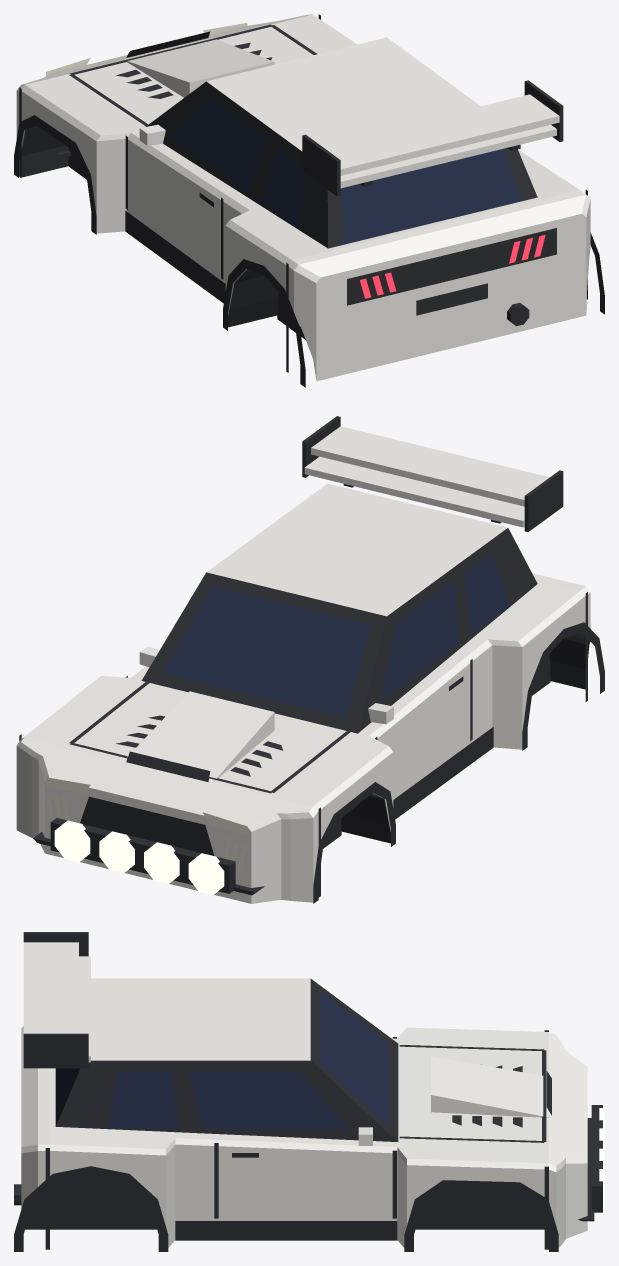
File: Griffe.fbx
3 views of the same model, one above another, from view 1: azimuth 30°, elevation 25°; view 2: azimuth 150°, elevation 25°; view 3: azimuth 270°, elevation 25° (orthographic). The views are drawn at different scales.
Parts seen in each view (by area): view 1: BumperRear, Roof, Opt_Wing_Rally_WingBlade, RearWindow, Hood, Door_FL, Pillars, Cowl, Fender_FL, TailGarnish, Window_FL, Opt_Hood_Scoop_HoodScoop (+14 smaller); view 2: Roof, BumperFront, Windshield, Hood, Pillars, Opt_Wing_Rally_WingBlade, Fender_RL, Opt_Hood_Scoop_HoodScoop, Door_FL, Window_FL, Opt_Bumper_Lamps_RallyLamp, Cowl (+12 smaller); view 3: Roof, Door_FR, Hood, Pillars, WheelWell, Fender_RR, Window_FR, BumperFront, Opt_Wing_Rally_WingBlade, Opt_Hood_Scoop_HoodScoop, Windshield, Fender_FR (+13 smaller).
Boxes of the visible parts, <box> form: BumperRear: <box>290,191,590,381</box>; Roof: <box>206,37,480,151</box>; Opt_Wing_Rally_WingBlade: <box>321,94,559,188</box>; RearWindow: <box>341,149,522,244</box>; Hood: <box>25,14,357,135</box>; Door_FL: <box>126,133,228,282</box>; Pillars: <box>146,81,537,248</box>; Cowl: <box>132,131,579,259</box>; Fender_FL: <box>21,85,130,233</box>; TailGarnish: <box>347,228,556,305</box>; Window_FL: <box>170,98,268,192</box>; Opt_Hood_Scoop_HoodScoop: <box>123,38,274,97</box>; Roof: <box>206,483,507,616</box>; BumperFront: <box>16,736,317,903</box>; Windshield: <box>163,586,370,718</box>; Hood: <box>25,676,388,806</box>; Pillars: <box>141,528,537,733</box>; Opt_Wing_Rally_WingBlade: <box>304,426,549,527</box>; Fender_RL: <box>467,589,585,749</box>; Opt_Hood_Scoop_HoodScoop: <box>123,691,274,783</box>; Door_FL: <box>369,656,471,799</box>; Window_FL: <box>380,580,459,701</box>; Opt_Bumper_Lamps_RallyLamp: <box>54,820,224,894</box>; Cowl: <box>131,580,579,735</box>; Roof: <box>91,978,310,1060</box>; Door_FR: <box>214,1139,397,1220</box>; Hood: <box>397,1027,548,1163</box>; Pillars: <box>55,979,398,1141</box>; WheelWell: <box>25,1175,544,1229</box>; Fender_RR: <box>45,1138,213,1247</box>; Window_FR: <box>189,1072,350,1128</box>; BumperFront: <box>549,1032,587,1247</box>; Opt_Wing_Rally_WingBlade: <box>23,942,90,1062</box>; Opt_Hood_Scoop_HoodScoop: <box>431,1056,551,1117</box>; Windshield: <box>319,991,389,1126</box>; Fender_FR: <box>397,1147,548,1247</box>.
Bounding box in the file's own units: 670 × 458 × 1226.
